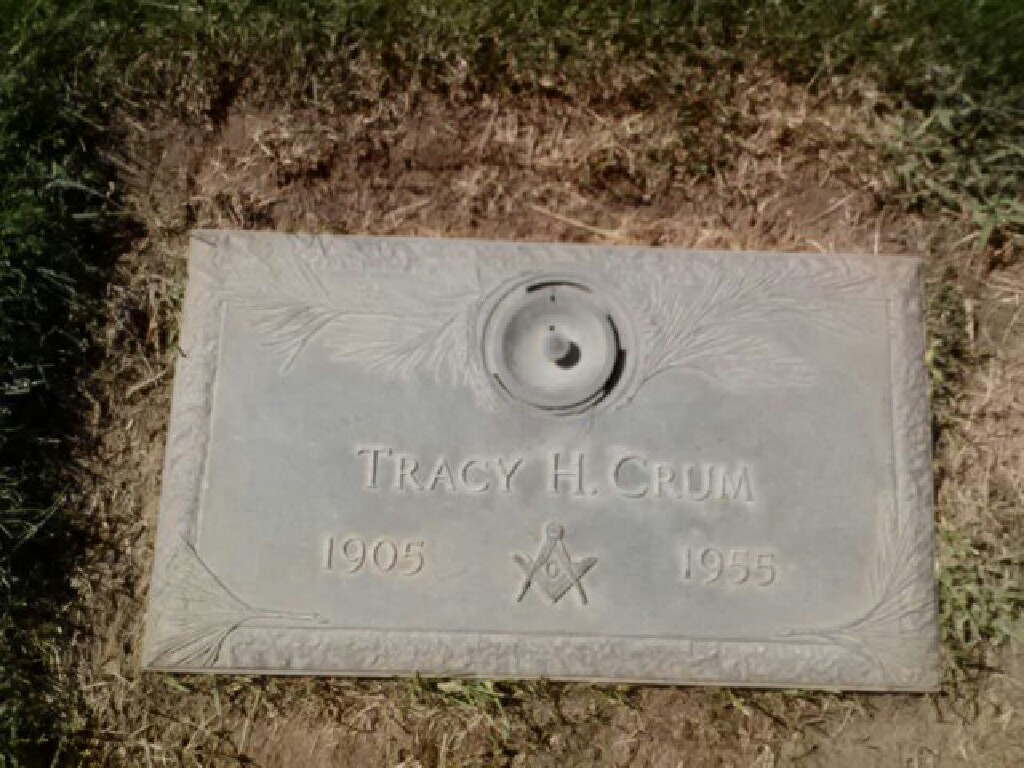flat: (134, 228, 944, 697)
